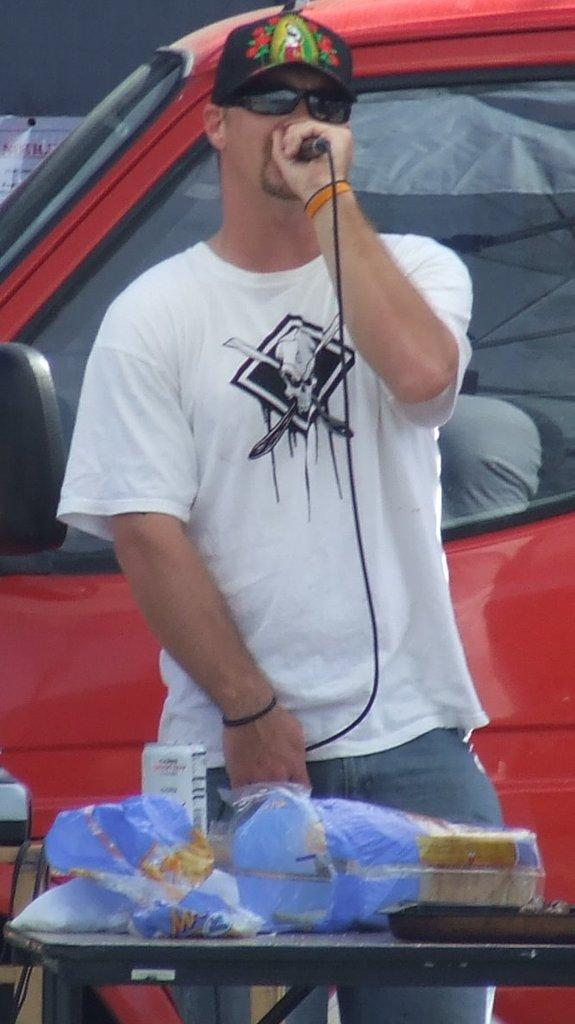Hat: (204, 8, 354, 96)
